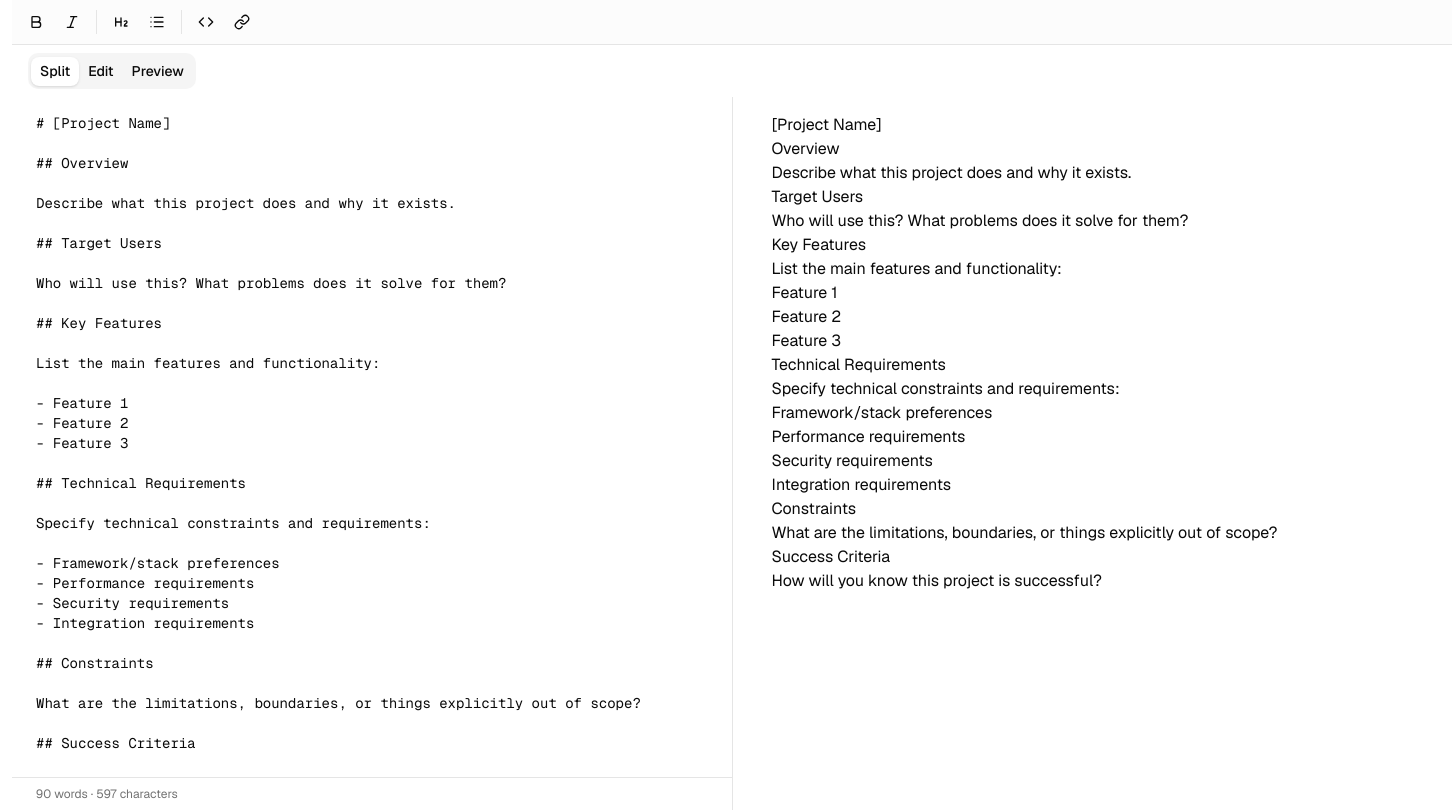
PrdEditor › inserts italic markdown when clicking italic button
Replace the text in the text box with test id "prd-editor-textarea" with "test" at (372, 437), box [12,97,732,777]
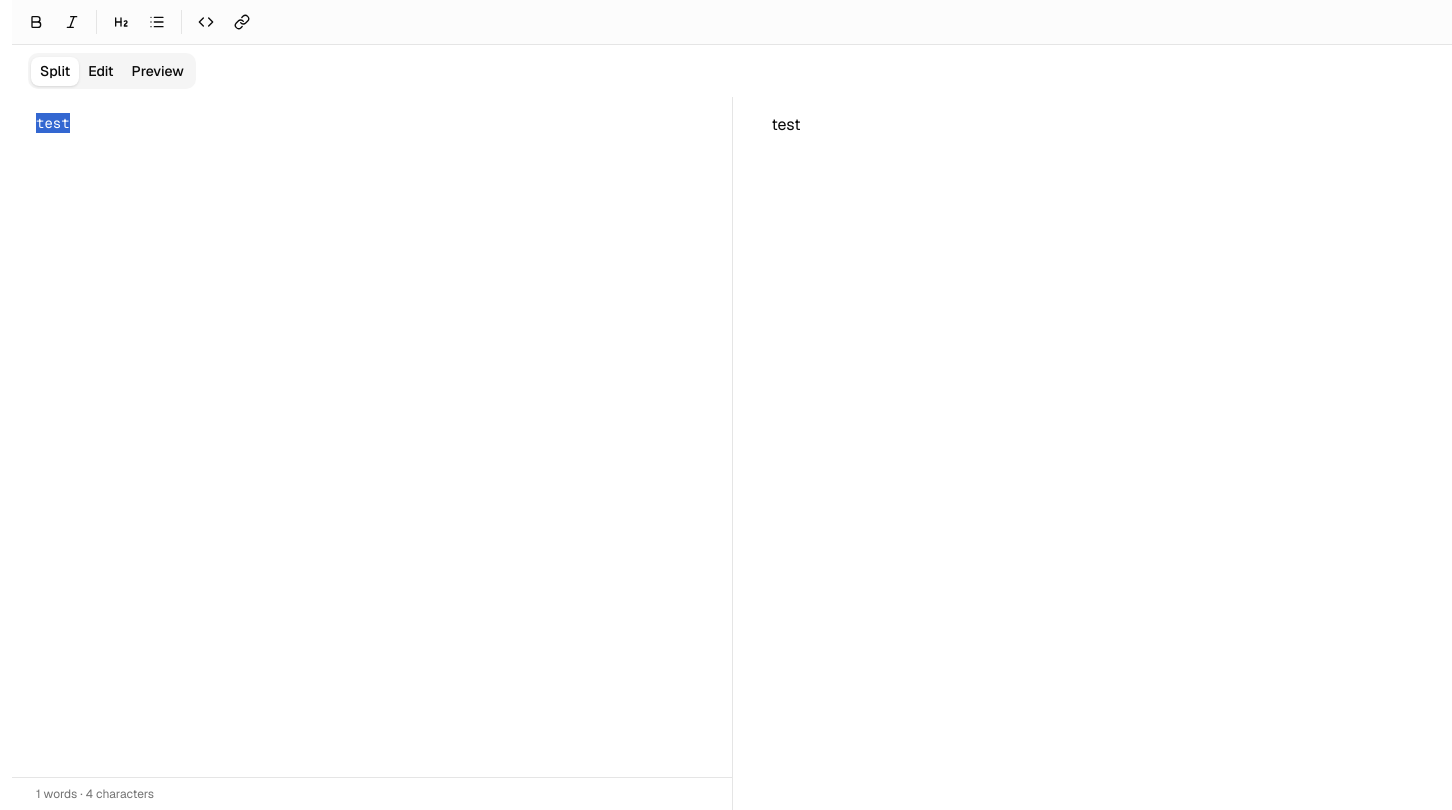
Click the button with test id "toolbar-italic" at (72, 22), box [56,6,88,38]
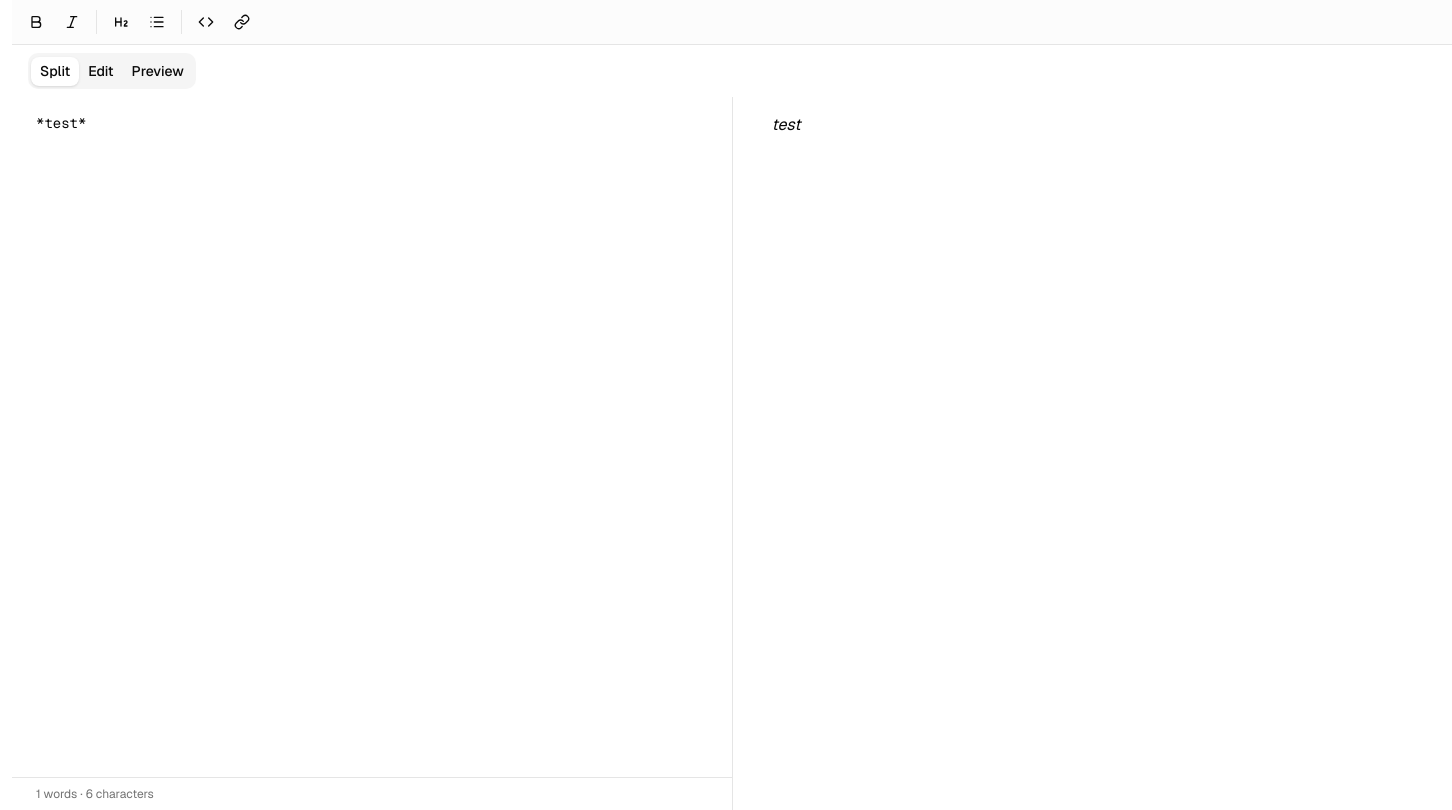
Expected: the text box with test id "prd-editor-textarea" holds "*test*", [12,97,732,777]
